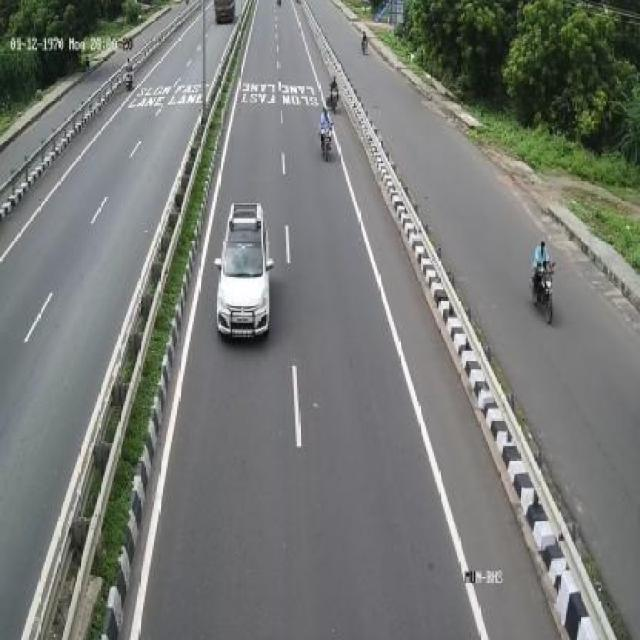car: (218, 192, 276, 346)
